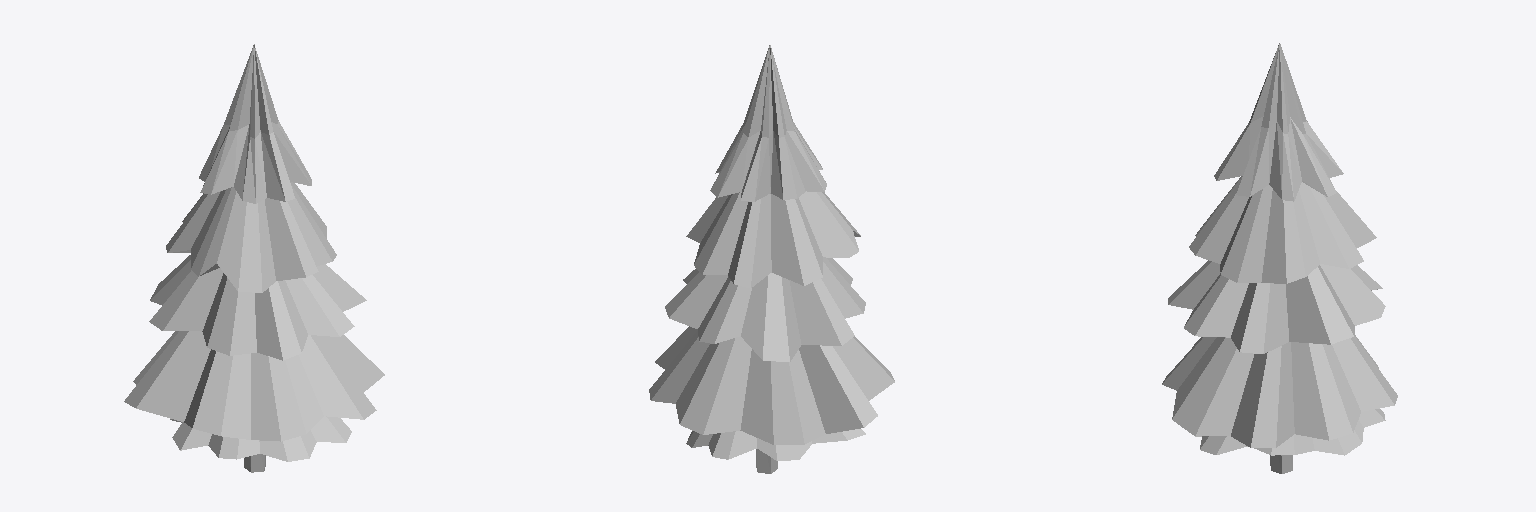
Rendered from Forest_A_FirTree_01.obj.
3 renders of one model, left to right at view 1: azimuth 30°, elevation 25°; view 2: azimuth 150°, elevation 25°; view 3: azimuth 270°, elevation 25°, orthographic.
Visible parts, largest first — view 1: Forest_A_FirTree_01; view 2: Forest_A_FirTree_01; view 3: Forest_A_FirTree_01.
Boxes of the visible parts, x1=… form: Forest_A_FirTree_01: x1=124, y1=44, x2=384, y2=472; Forest_A_FirTree_01: x1=649, y1=45, x2=894, y2=473; Forest_A_FirTree_01: x1=1162, y1=43, x2=1397, y2=473.
Size of the model in its own units: 364 by 643 by 323.